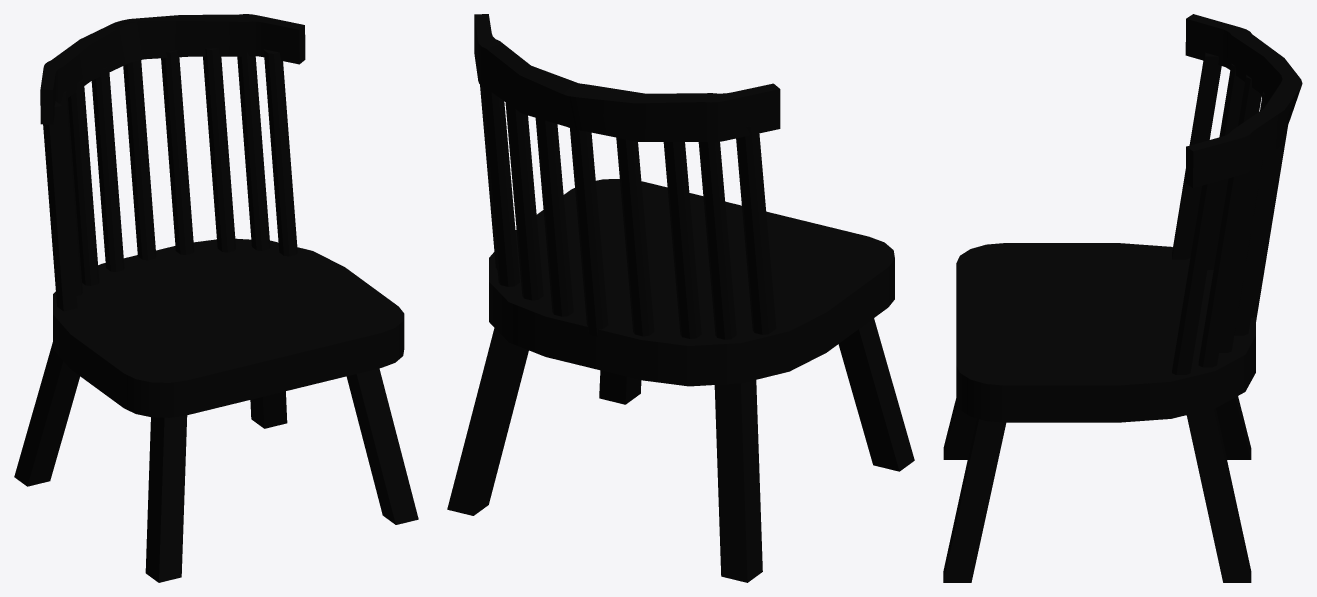
The model's file is chair_black.fbx.
3 views of the same model, side by side, from view 1: azimuth 30°, elevation 25°; view 2: azimuth 150°, elevation 25°; view 3: azimuth 270°, elevation 25° (orthographic). The views are drawn at different scales.
Visible parts, largest first — view 1: chair_black; view 2: chair_black; view 3: chair_black.
Part boxes in pixels (left/top/right/bottom): chair_black: left=14, top=14, right=418, bottom=582; chair_black: left=447, top=14, right=914, bottom=582; chair_black: left=943, top=14, right=1302, bottom=582.
Size of the model in its own units: 0.00473 by 0.00676 by 0.00503.
Materials: 1 (1 with a texture image).
